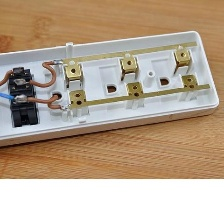three_eye_plug: (0, 26, 222, 152)
